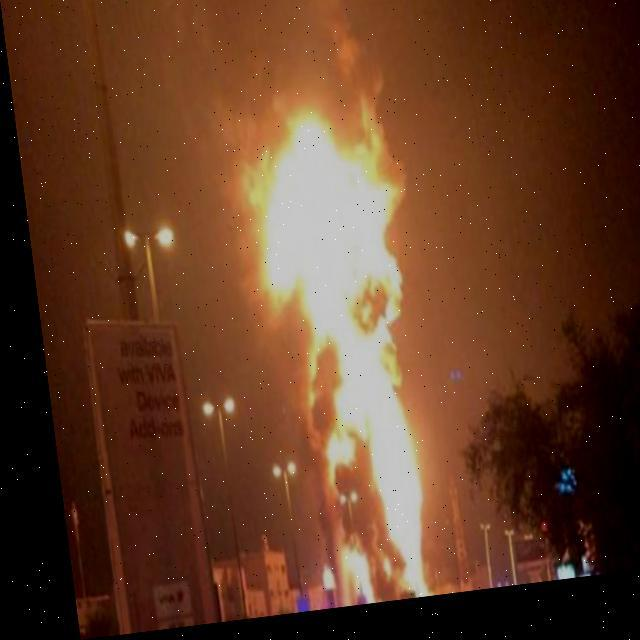Fire: (233, 98, 437, 617)
